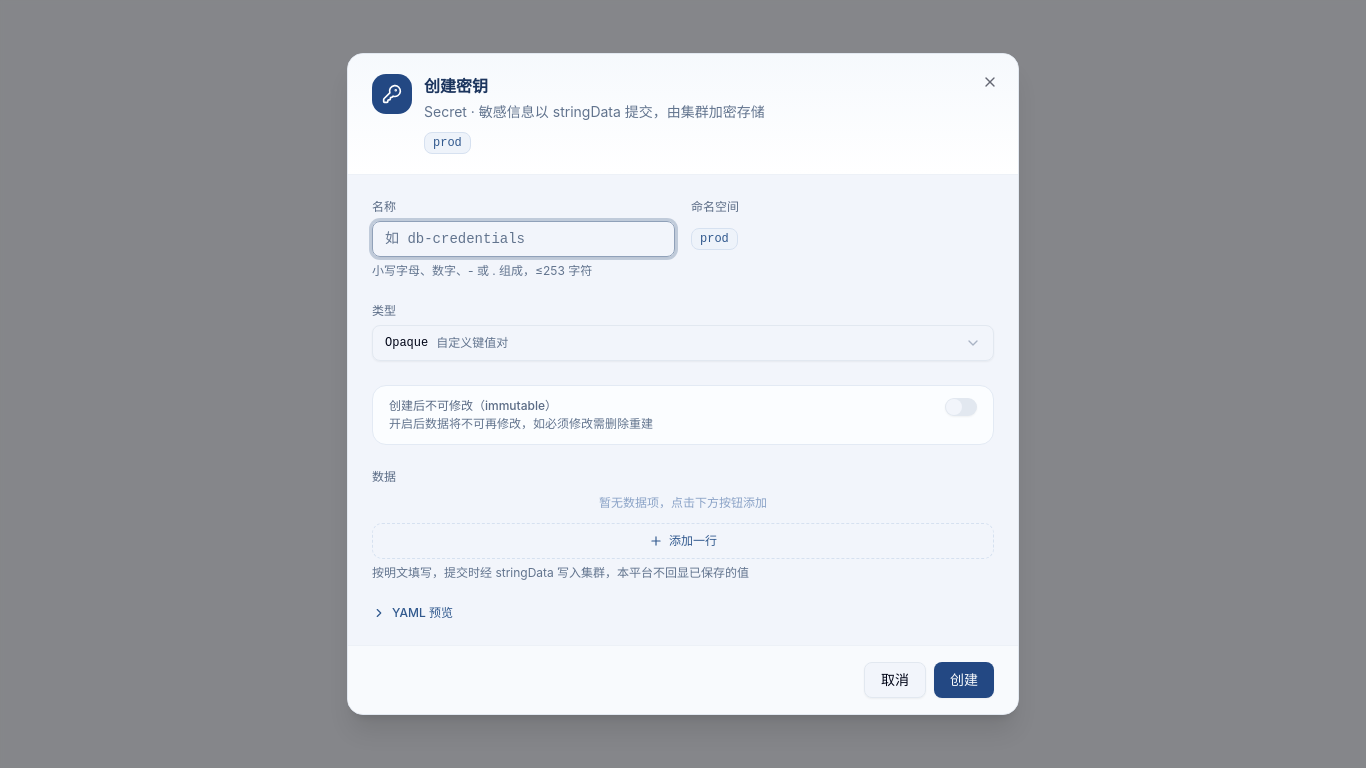
Test: SecretCreateDialog › shows 同名密钥已存在 on a 409 from the real create
In the field named "名称": x=524, y=239 [372,221,675,257], type "db-credentials"
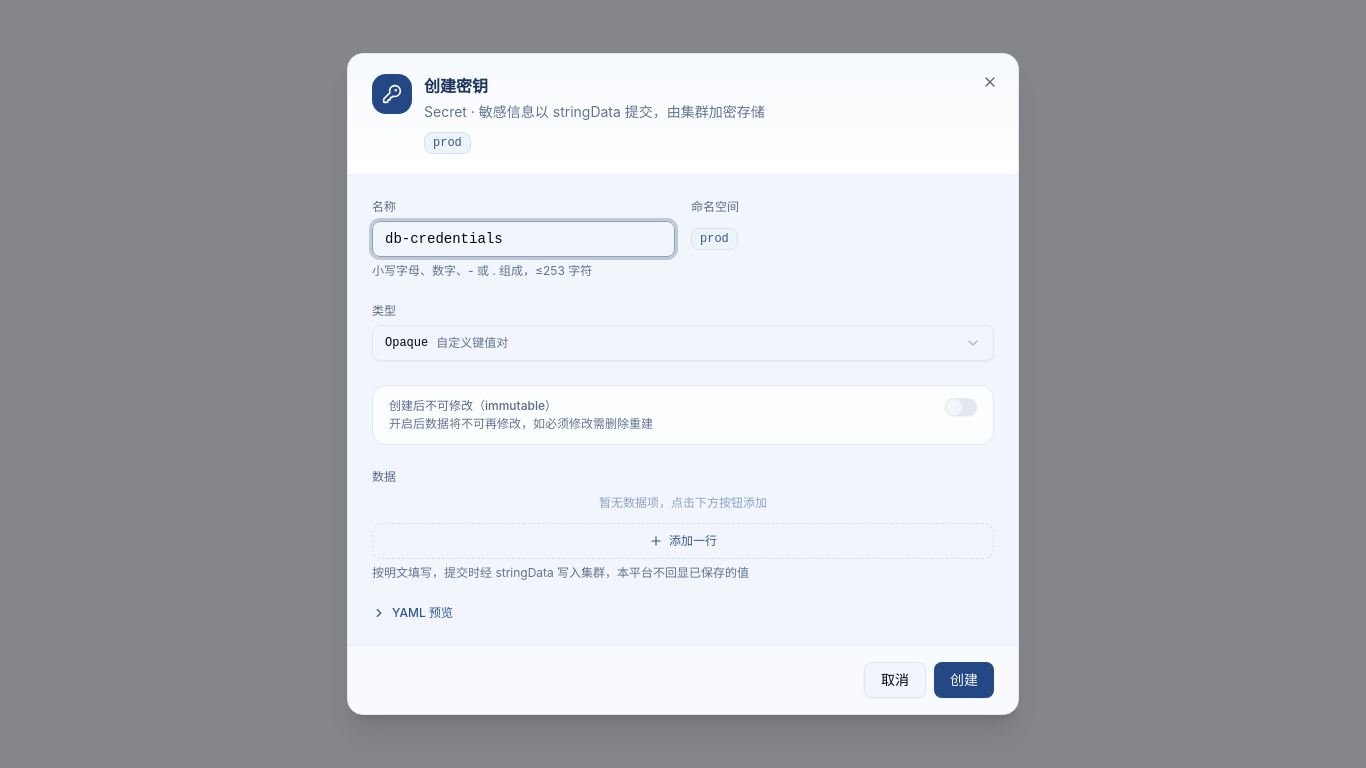
Click the button "创建": x=964, y=680 [934,662,994,698]
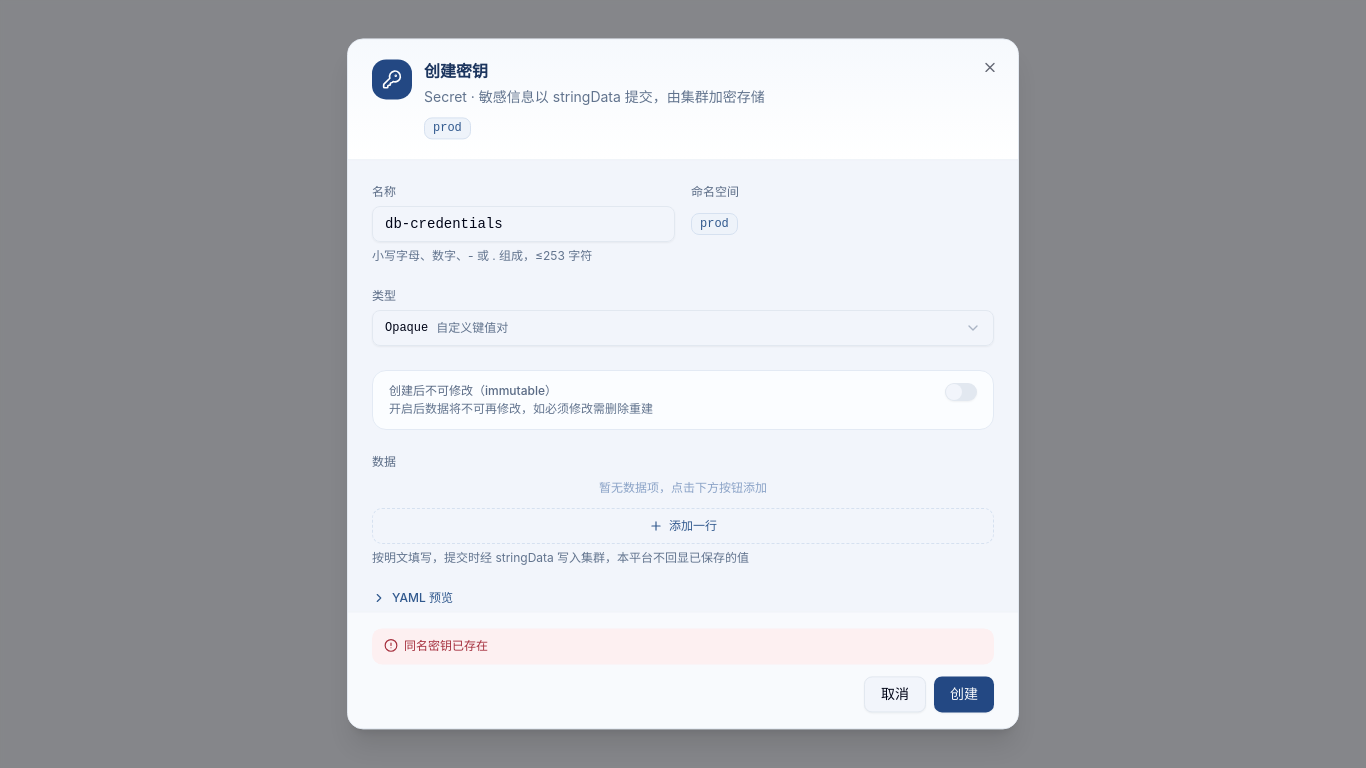
Now the text "同名密钥已存在" is shown, box [404,637,488,657]
